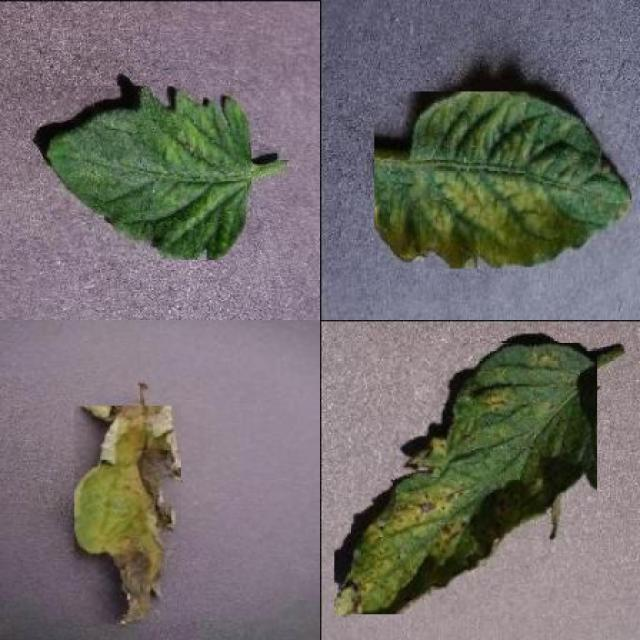Late Blight: (74, 406, 180, 624)
Mosaic Virus: (375, 92, 632, 268), (43, 86, 251, 260)
Septoria: (334, 342, 596, 614)
